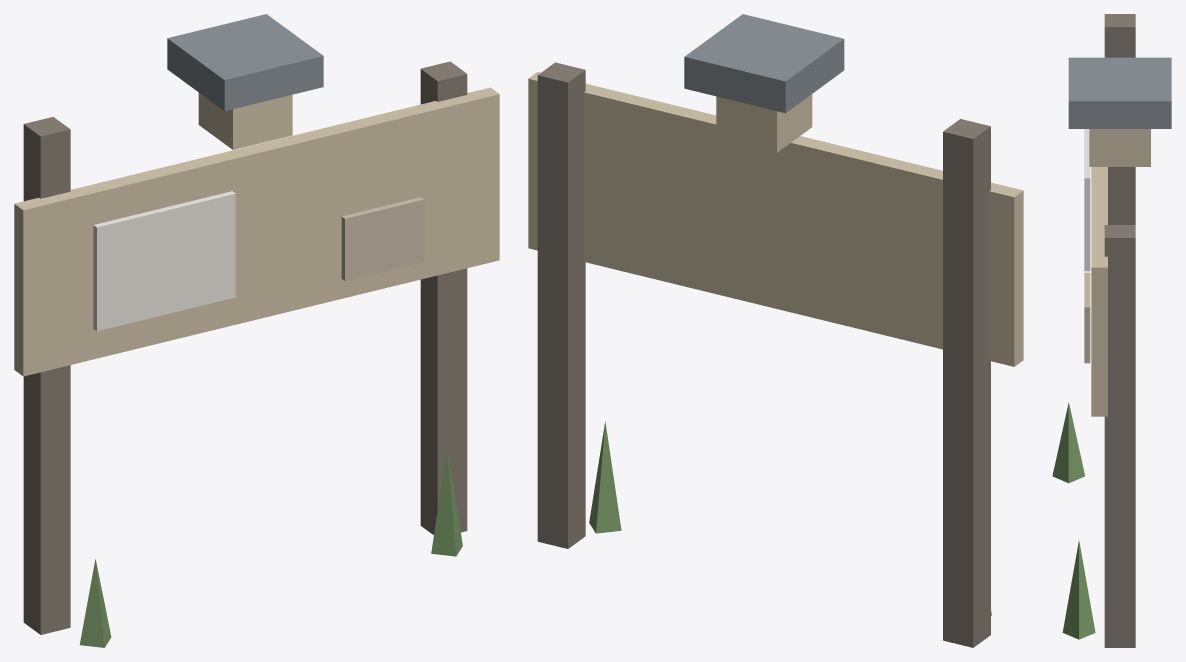
File: station_sign_s0.fbx
The picture shows the model from 3 angles, left to right: view 1: azimuth 30°, elevation 25°; view 2: azimuth 150°, elevation 25°; view 3: azimuth 270°, elevation 25°; orthographic projection. The views are drawn at different scales.
Parts seen in each view (by area): view 1: station_sign_s0; view 2: station_sign_s0; view 3: station_sign_s0.
Part boxes in pixels (bbox=[...]): station_sign_s0: bbox=[14, 14, 499, 647]; station_sign_s0: bbox=[528, 14, 1023, 647]; station_sign_s0: bbox=[1052, 14, 1171, 647].
Bounding box in the file's own units: 2.4 × 2.55 × 0.58.
1 material, 1 textured.
